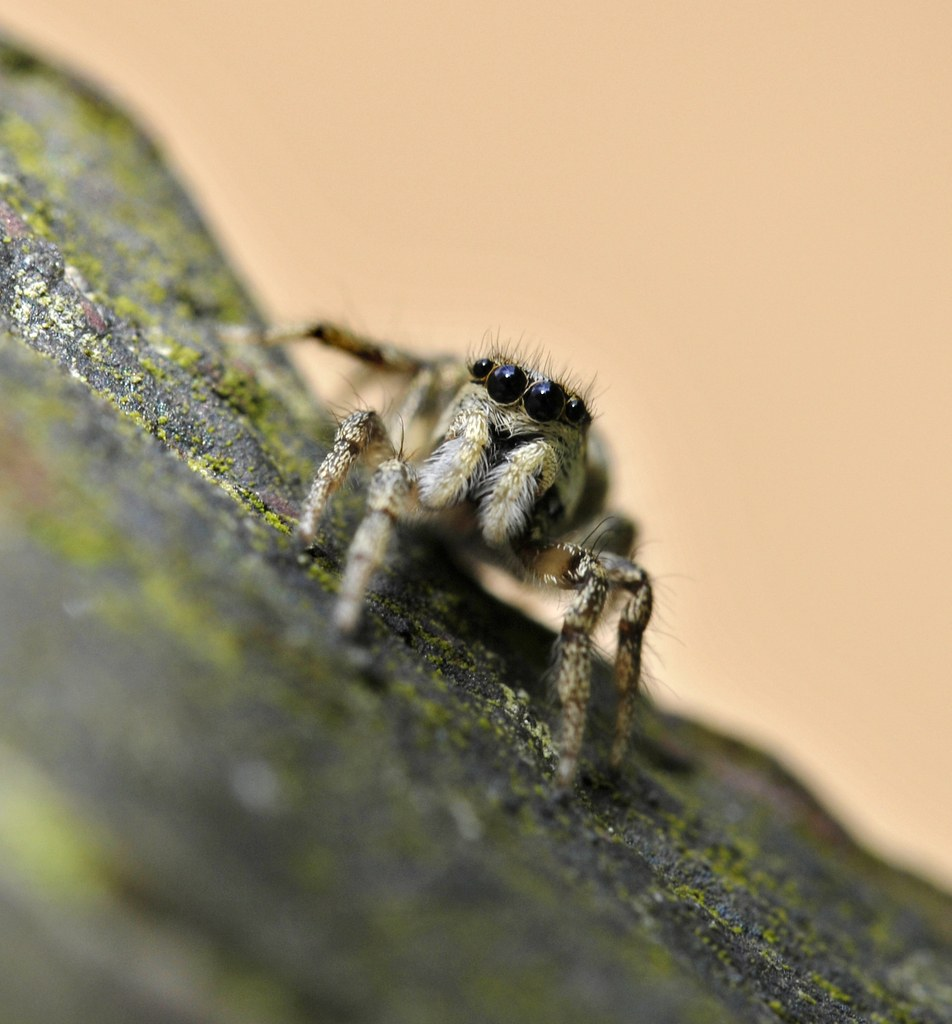bee: (223, 300, 672, 808)
insect: (214, 307, 659, 806)
